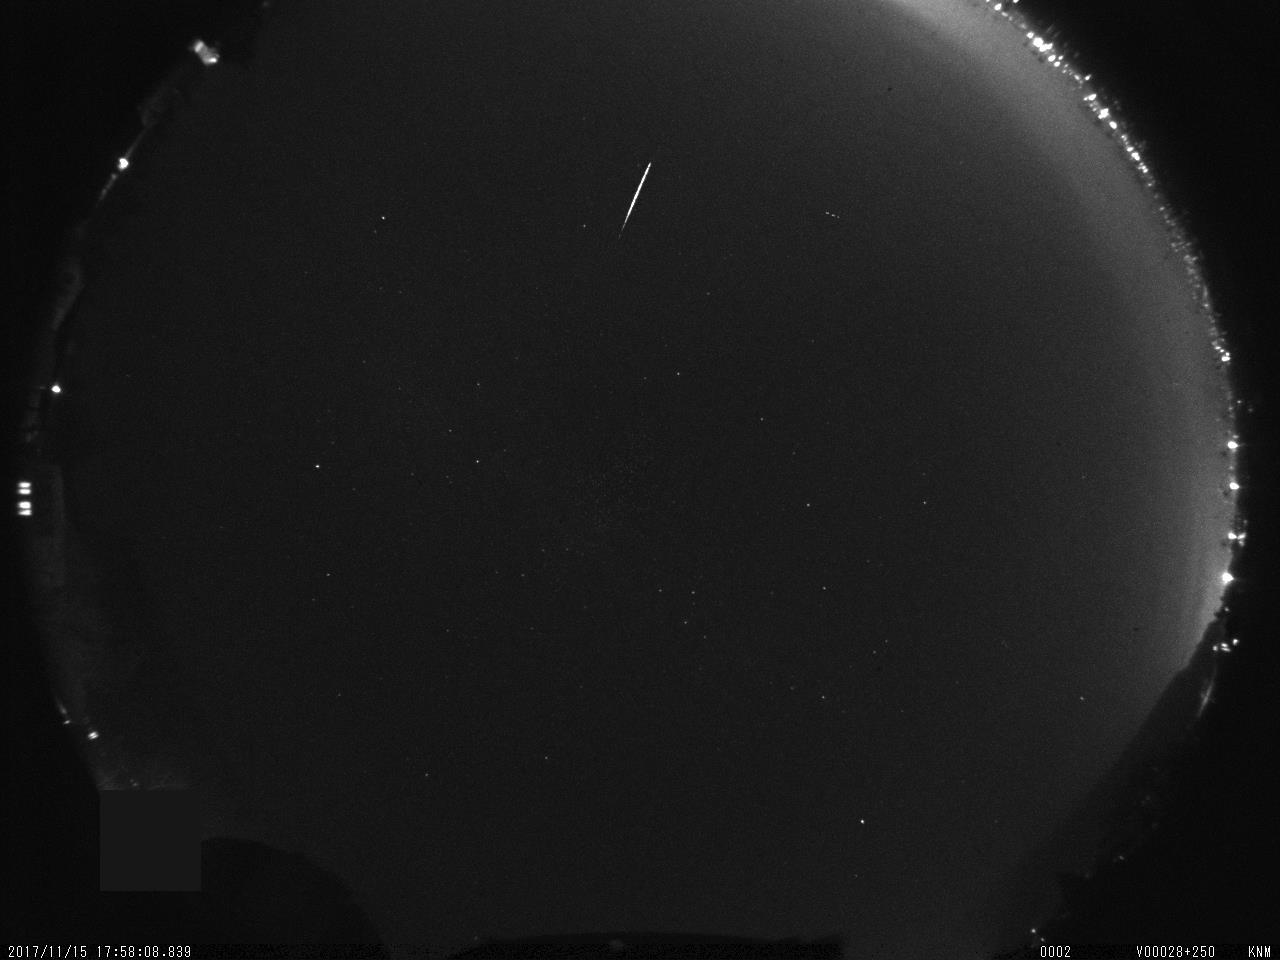meteor: (594, 156, 668, 238)
